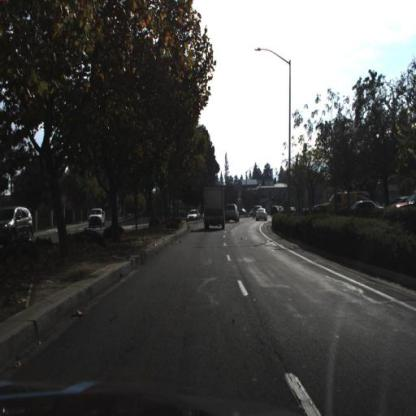car: (1, 205, 34, 251), (202, 185, 230, 235), (327, 191, 371, 216), (347, 201, 388, 222), (87, 205, 108, 232), (225, 200, 243, 226), (256, 204, 269, 223), (187, 208, 201, 224)
